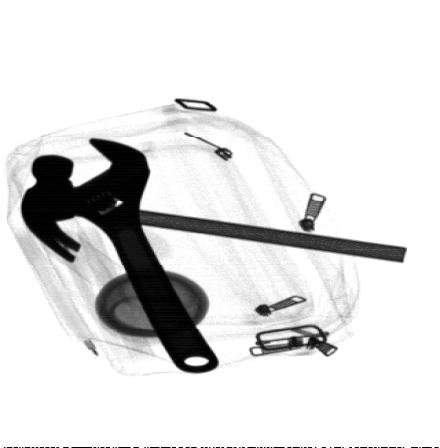Hammer: (19, 154, 407, 263)
Wrench: (38, 136, 223, 374)
